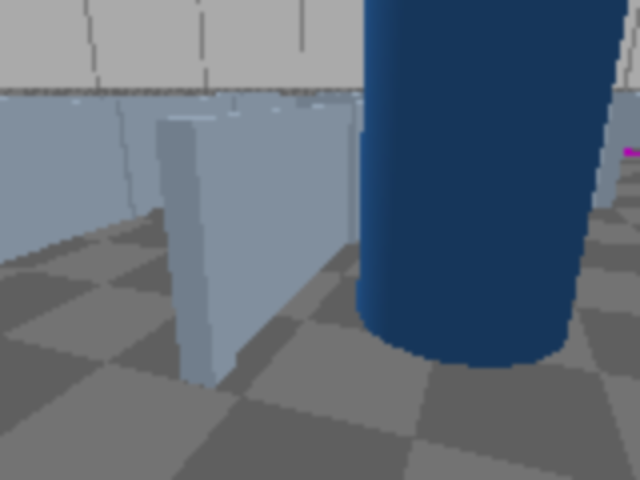person: (361, 0, 638, 363)
